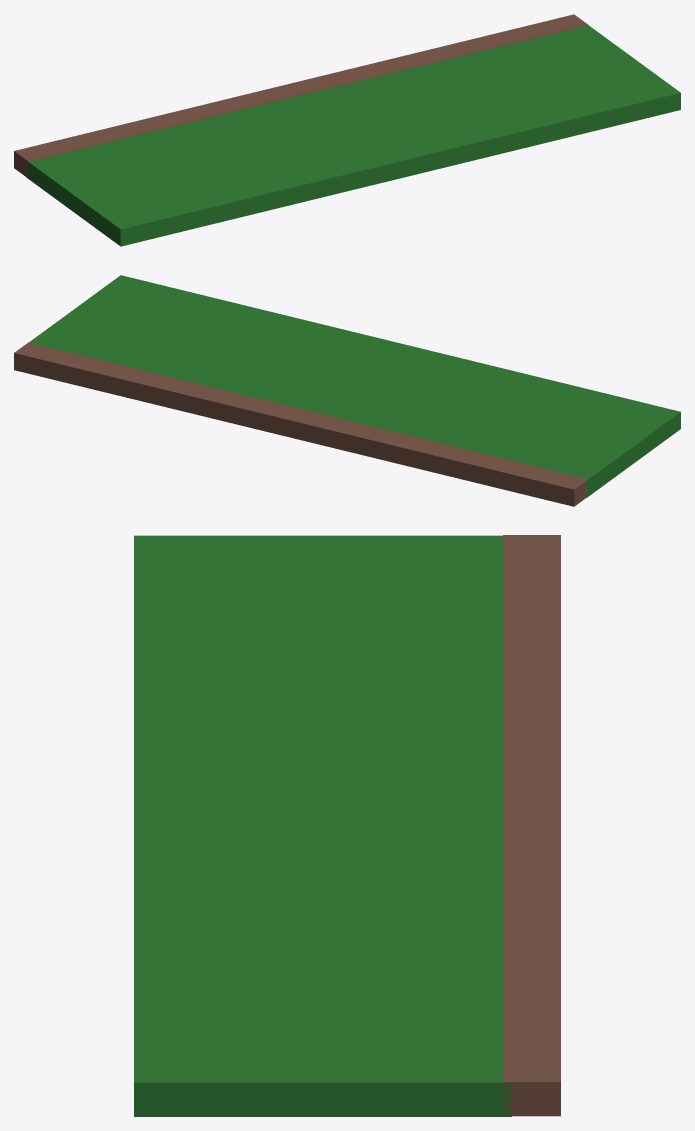
Rendered from base_start.fbx.
3 views of the same model, one above another, from view 1: azimuth 30°, elevation 25°; view 2: azimuth 150°, elevation 25°; view 3: azimuth 270°, elevation 25° (orthographic). The views are drawn at different scales.
Visible parts, largest first — view 1: base_start; view 2: base_start; view 3: base_start.
Part boxes in pixels (<box>): base_start: <box>14,14,680,246</box>; base_start: <box>14,275,680,506</box>; base_start: <box>134,535,560,1116</box>.
Bounding box in the file's own units: 14587 × 435 × 4817.
Materials: 1 (1 with a texture image).
